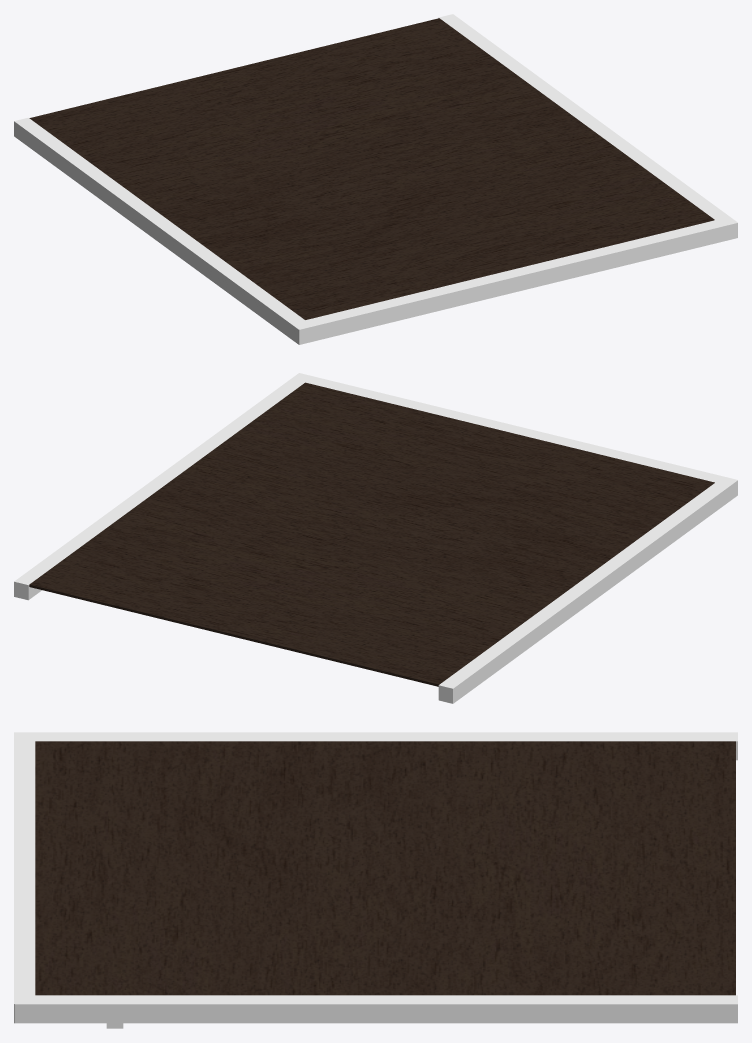
The model's file is bedframe.glb.
The picture shows the model from 3 angles, top to bottom: view 1: azimuth 30°, elevation 25°; view 2: azimuth 150°, elevation 25°; view 3: azimuth 270°, elevation 25°; orthographic projection. The views are drawn at different scales.
Parts seen in each view (by area): view 1: Bedframe; view 2: Bedframe; view 3: Bedframe.
Boxes of the visible parts, x1,y1,x2,y2 form: Bedframe: [14, 14, 737, 344]; Bedframe: [14, 373, 737, 703]; Bedframe: [14, 732, 737, 1028].
Bounding box in the file's own units: 1.71 × 0.158 × 1.92.
Materials: 2 (1 with a texture image).
